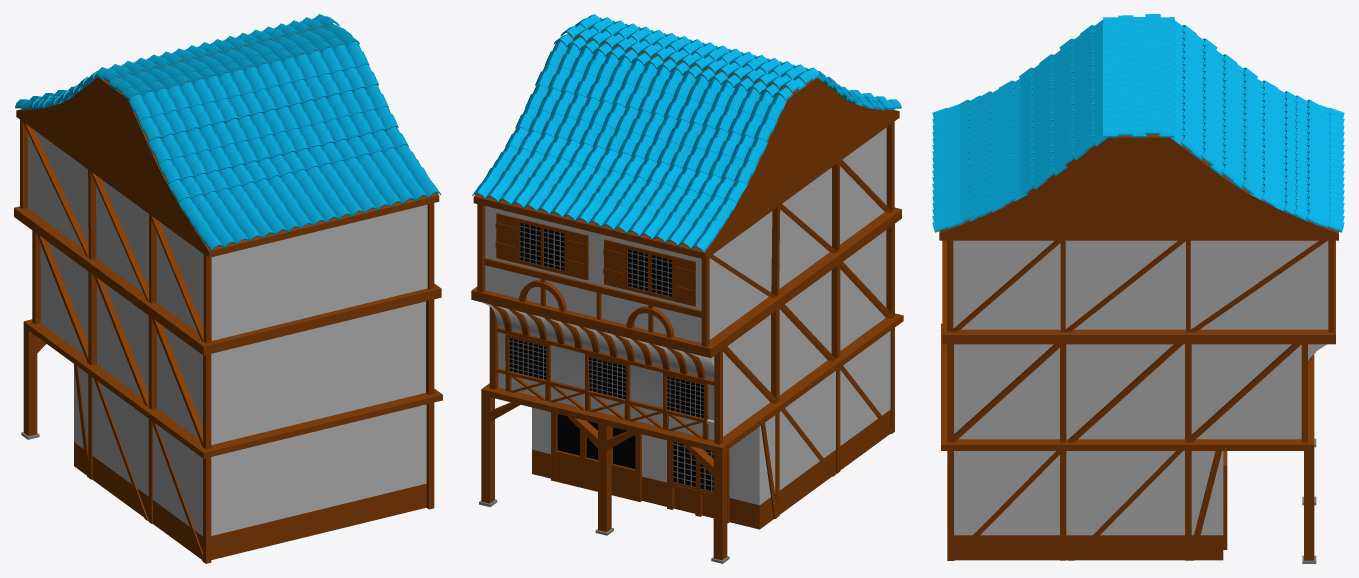
File: housemedival.fbx
3 renders of one model, left to right at view 1: azimuth 30°, elevation 25°; view 2: azimuth 150°, elevation 25°; view 3: azimuth 270°, elevation 25°, orthographic. The views are drawn at different scales.
Parts seen in each view (by area): view 1: housemedival; view 2: housemedival; view 3: housemedival.
Part boxes in pixels (bbox=[...]): housemedival: bbox=[14, 14, 442, 563]; housemedival: bbox=[471, 14, 903, 563]; housemedival: bbox=[932, 14, 1344, 563].
Size of the model in its own units: 2020 by 3336 by 2870.
